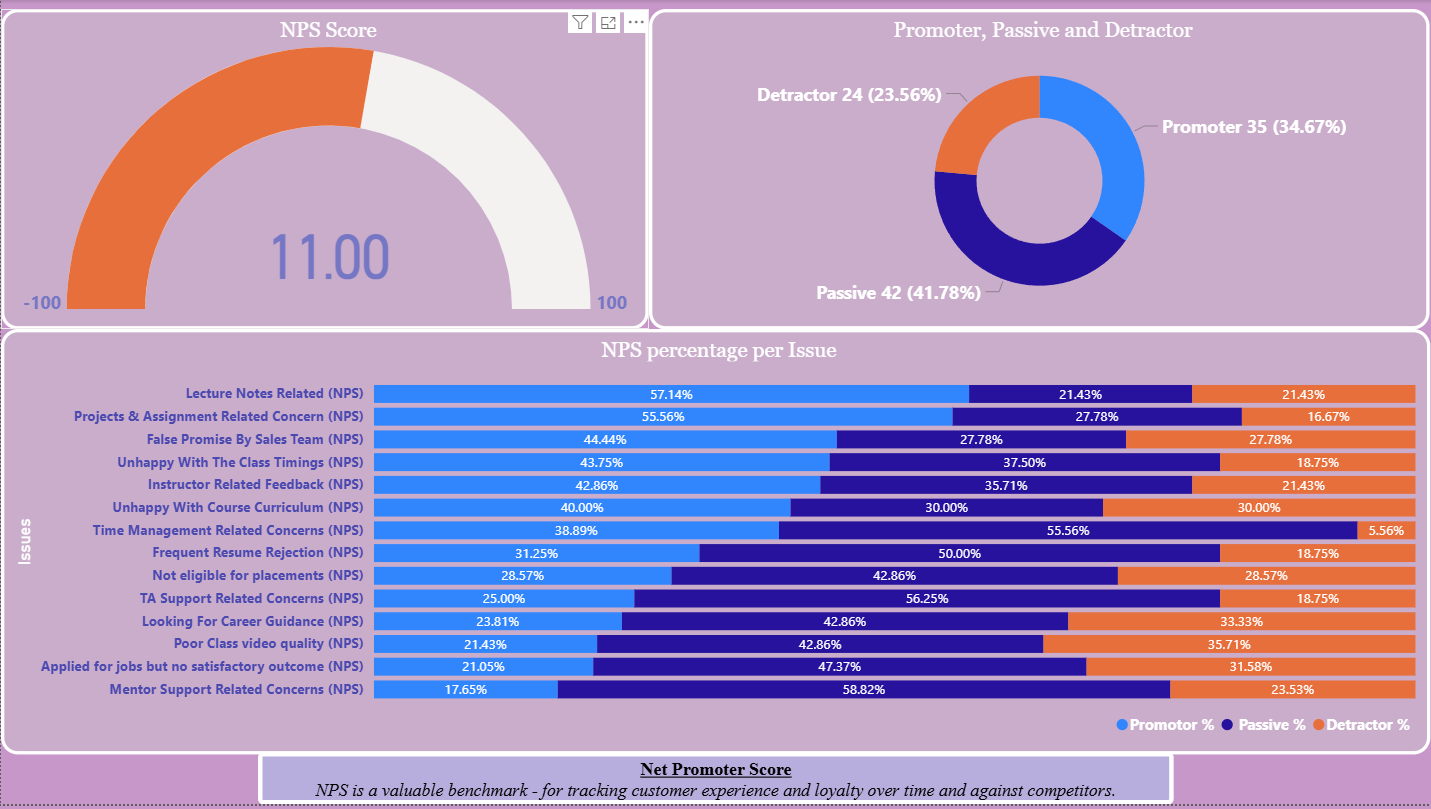

The page's visual inventory and layout, read from the dashboard file:
{"tool":"powerbi","page":{"name":"NPS_Score","canvas":[1280,720],"ordinal":0},"visuals":[{"type":"gauge","title":"NPS Score","fields":{"MinValue":["Sheet1.MIN_RANGE"],"MaxValue":["Sheet1.MAX_RANGE_NPS"],"Y":["Sheet1.NPS Score"]},"box":[0,8.1,580.3,286.6],"z":0},{"type":"donutChart","fields":{"Y":["Sheet1.Per_Promoter","Sheet1.Per_Passive","Sheet1.Per_Detractor"]},"box":[580.3,8.1,699.4,286.6],"z":1000},{"type":"hundredPercentStackedBarChart","title":"NPS percentage per Issue","fields":{"Category":["per_issue_nps_percentage.issue_2_NPS"],"Y":["Sum(per_issue_nps_percentage.promotor_per)","Sum(per_issue_nps_percentage.passive_per)","Sum(per_issue_nps_percentage.detractor_per)"]},"box":[0,294.6,1279.7,381.5],"z":2000},{"type":"textbox","box":[230.1,673.4,820.3,46.6],"z":3000}]}

Visuals, with their boxes in screenshot pixels (x1, y1, x2, y2), scaled from the page's 1280x720 canvas onto the 1431x809 screenshot:
"NPS Score" gauge: left=0, top=9, right=649, bottom=331
donutChart - Sheet1.Per_Promoter x Sheet1.Per_Passive: left=649, top=9, right=1430, bottom=331
"NPS percentage per Issue" hundredPercentStackedBarChart: left=0, top=331, right=1430, bottom=760
textbox: left=257, top=757, right=1174, bottom=808
